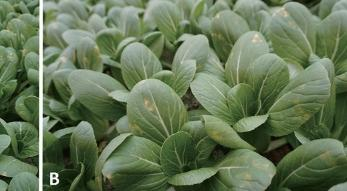Bok-Choy-Diseased: (270, 58, 331, 138), (124, 78, 190, 140), (209, 9, 259, 70), (216, 150, 275, 191), (284, 145, 347, 182), (96, 157, 158, 191)
